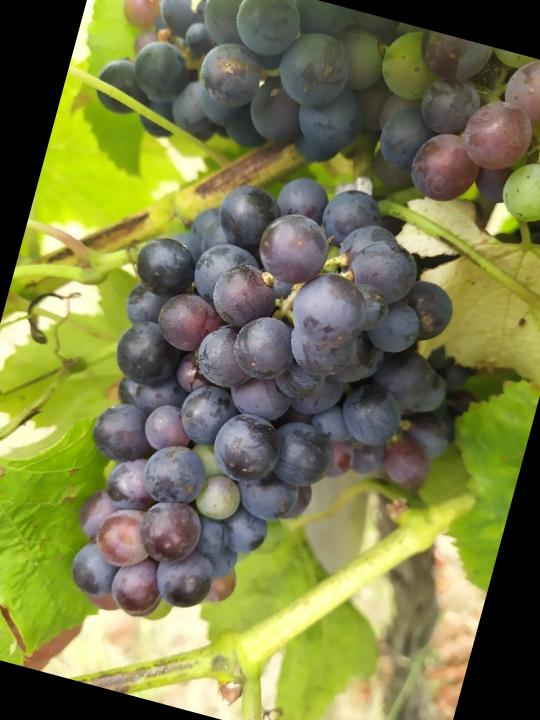grape: (38, 131, 502, 690)
